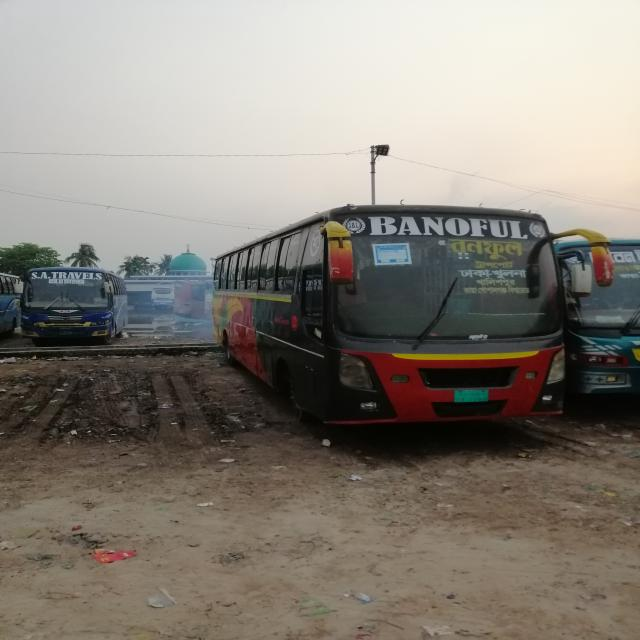Bus: (210, 208, 567, 433), (20, 262, 122, 348)
